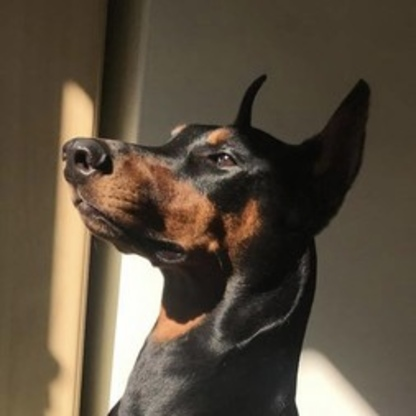doberman: (52, 62, 379, 416)
